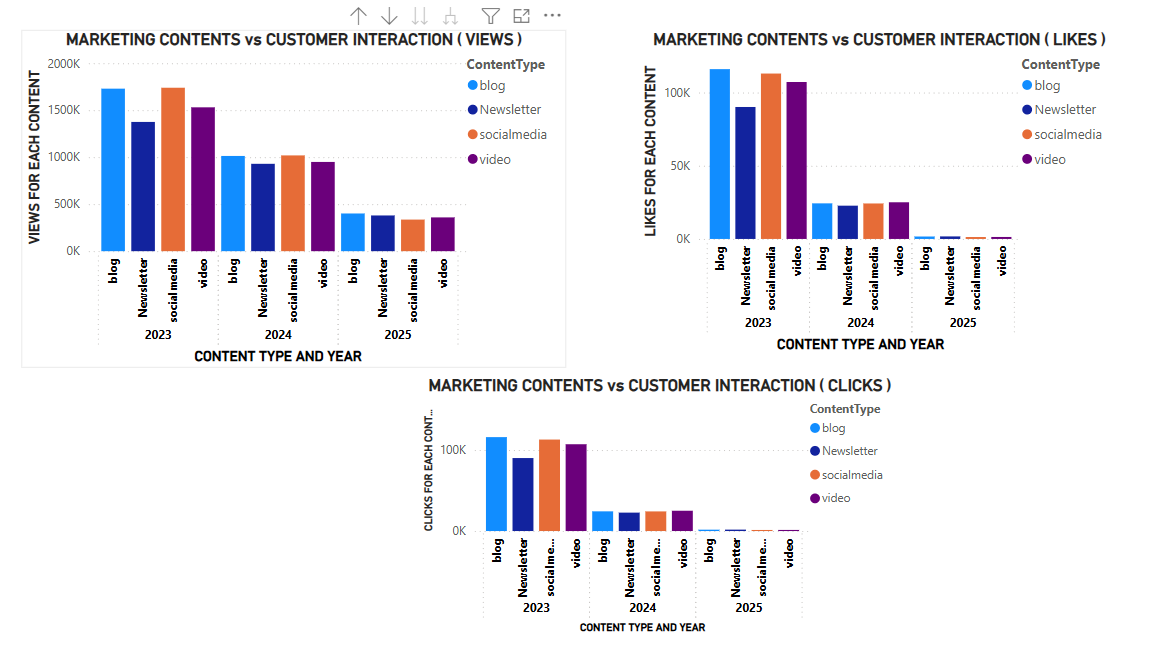

The page's visual inventory and layout, read from the dashboard file:
{"tool":"powerbi","page":{"name":"ENGAGEMENT RATE","canvas":[1280,720],"ordinal":1},"visuals":[{"type":"columnChart","title":"MARKETING CONTENTS vs CUSTOMER INTERACTION ( LIKES ) ","fields":{"Category":["HighestContentKPI.EngagementDate.Variation.Date Hierarchy.Year","HighestContentKPI.ContentType"],"Y":["Sum(HighestContentKPI.total_likes)"],"Series":["HighestContentKPI.ContentType"]},"box":[684.8,80.6,495.2,333.9],"z":0},{"type":"columnChart","title":"MARKETING CONTENTS vs CUSTOMER INTERACTION ( VIEWS ) ","fields":{"Category":["HighestContentKPI.EngagementDate.Variation.Date Hierarchy.Year","HighestContentKPI.ContentType"],"Series":["HighestContentKPI.ContentType"],"Y":["Sum(HighestContentKPI.views)"]},"box":[54.5,80.6,557.6,346.4],"z":1},{"type":"columnChart","title":"MARKETING CONTENTS vs CUSTOMER INTERACTION ( CLICKS ) ","fields":{"Category":["HighestContentKPI.EngagementDate.Variation.Date Hierarchy.Year","HighestContentKPI.ContentType"],"Y":["Sum(HighestContentKPI.total_likes)"],"Series":["HighestContentKPI.ContentType"]},"box":[460,435,495.2,266.9],"z":2}]}

Visuals, with their boxes on the page's 1280x720 design canvas (x1, y1, x2, y2). These are canvas units, not pixel positions in the 1150x648 screenshot, which may show the page scaled, cropped or inside an application window:
"MARKETING CONTENTS vs CUSTOMER INTERACTION ( LIKES ) " columnChart: <box>685,81,1180,414</box>
"MARKETING CONTENTS vs CUSTOMER INTERACTION ( VIEWS ) " columnChart: <box>54,81,612,427</box>
"MARKETING CONTENTS vs CUSTOMER INTERACTION ( CLICKS ) " columnChart: <box>460,435,955,702</box>
